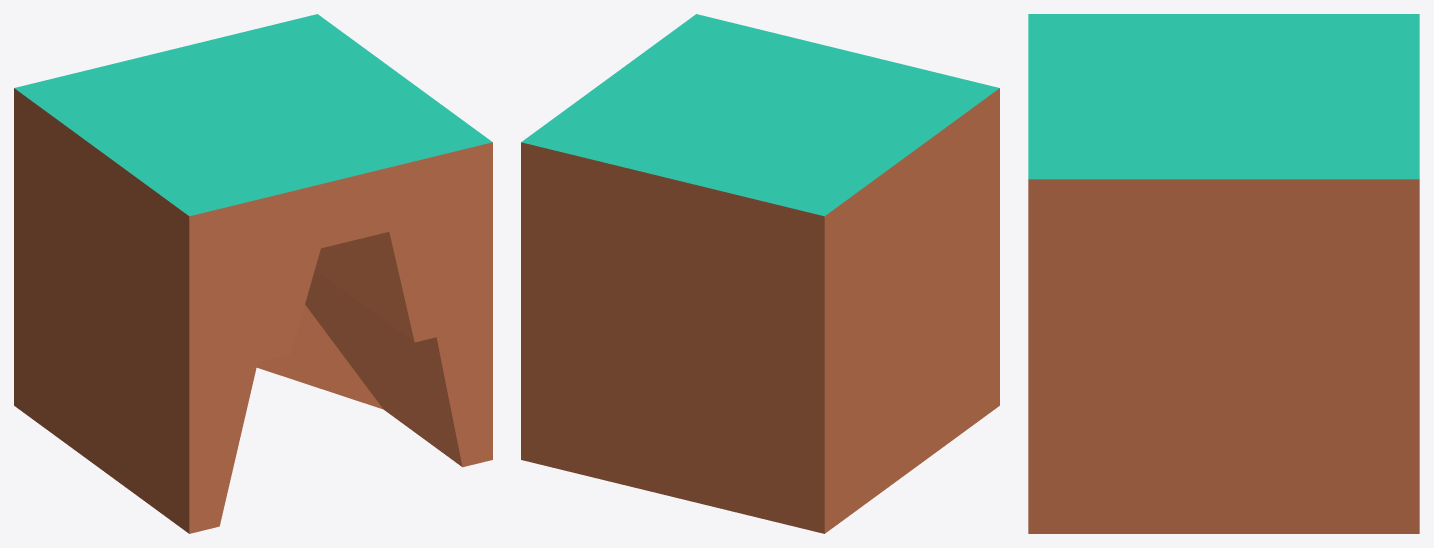
The model's file is cliff_blockCave_rock.dae.
3 views of the same model, side by side, from view 1: azimuth 30°, elevation 25°; view 2: azimuth 150°, elevation 25°; view 3: azimuth 270°, elevation 25° (orthographic). The views are drawn at different scales.
Visible parts, largest first — view 1: cliff_blockCave_rock; view 2: cliff_blockCave_rock; view 3: cliff_blockCave_rock.
Boxes of the visible parts, x1,y1,x2,y2 form: cliff_blockCave_rock: (14,14,492,533); cliff_blockCave_rock: (521,14,999,533); cliff_blockCave_rock: (1028,14,1419,533).
Bounding box in the file's own units: 1 × 1 × 1.
